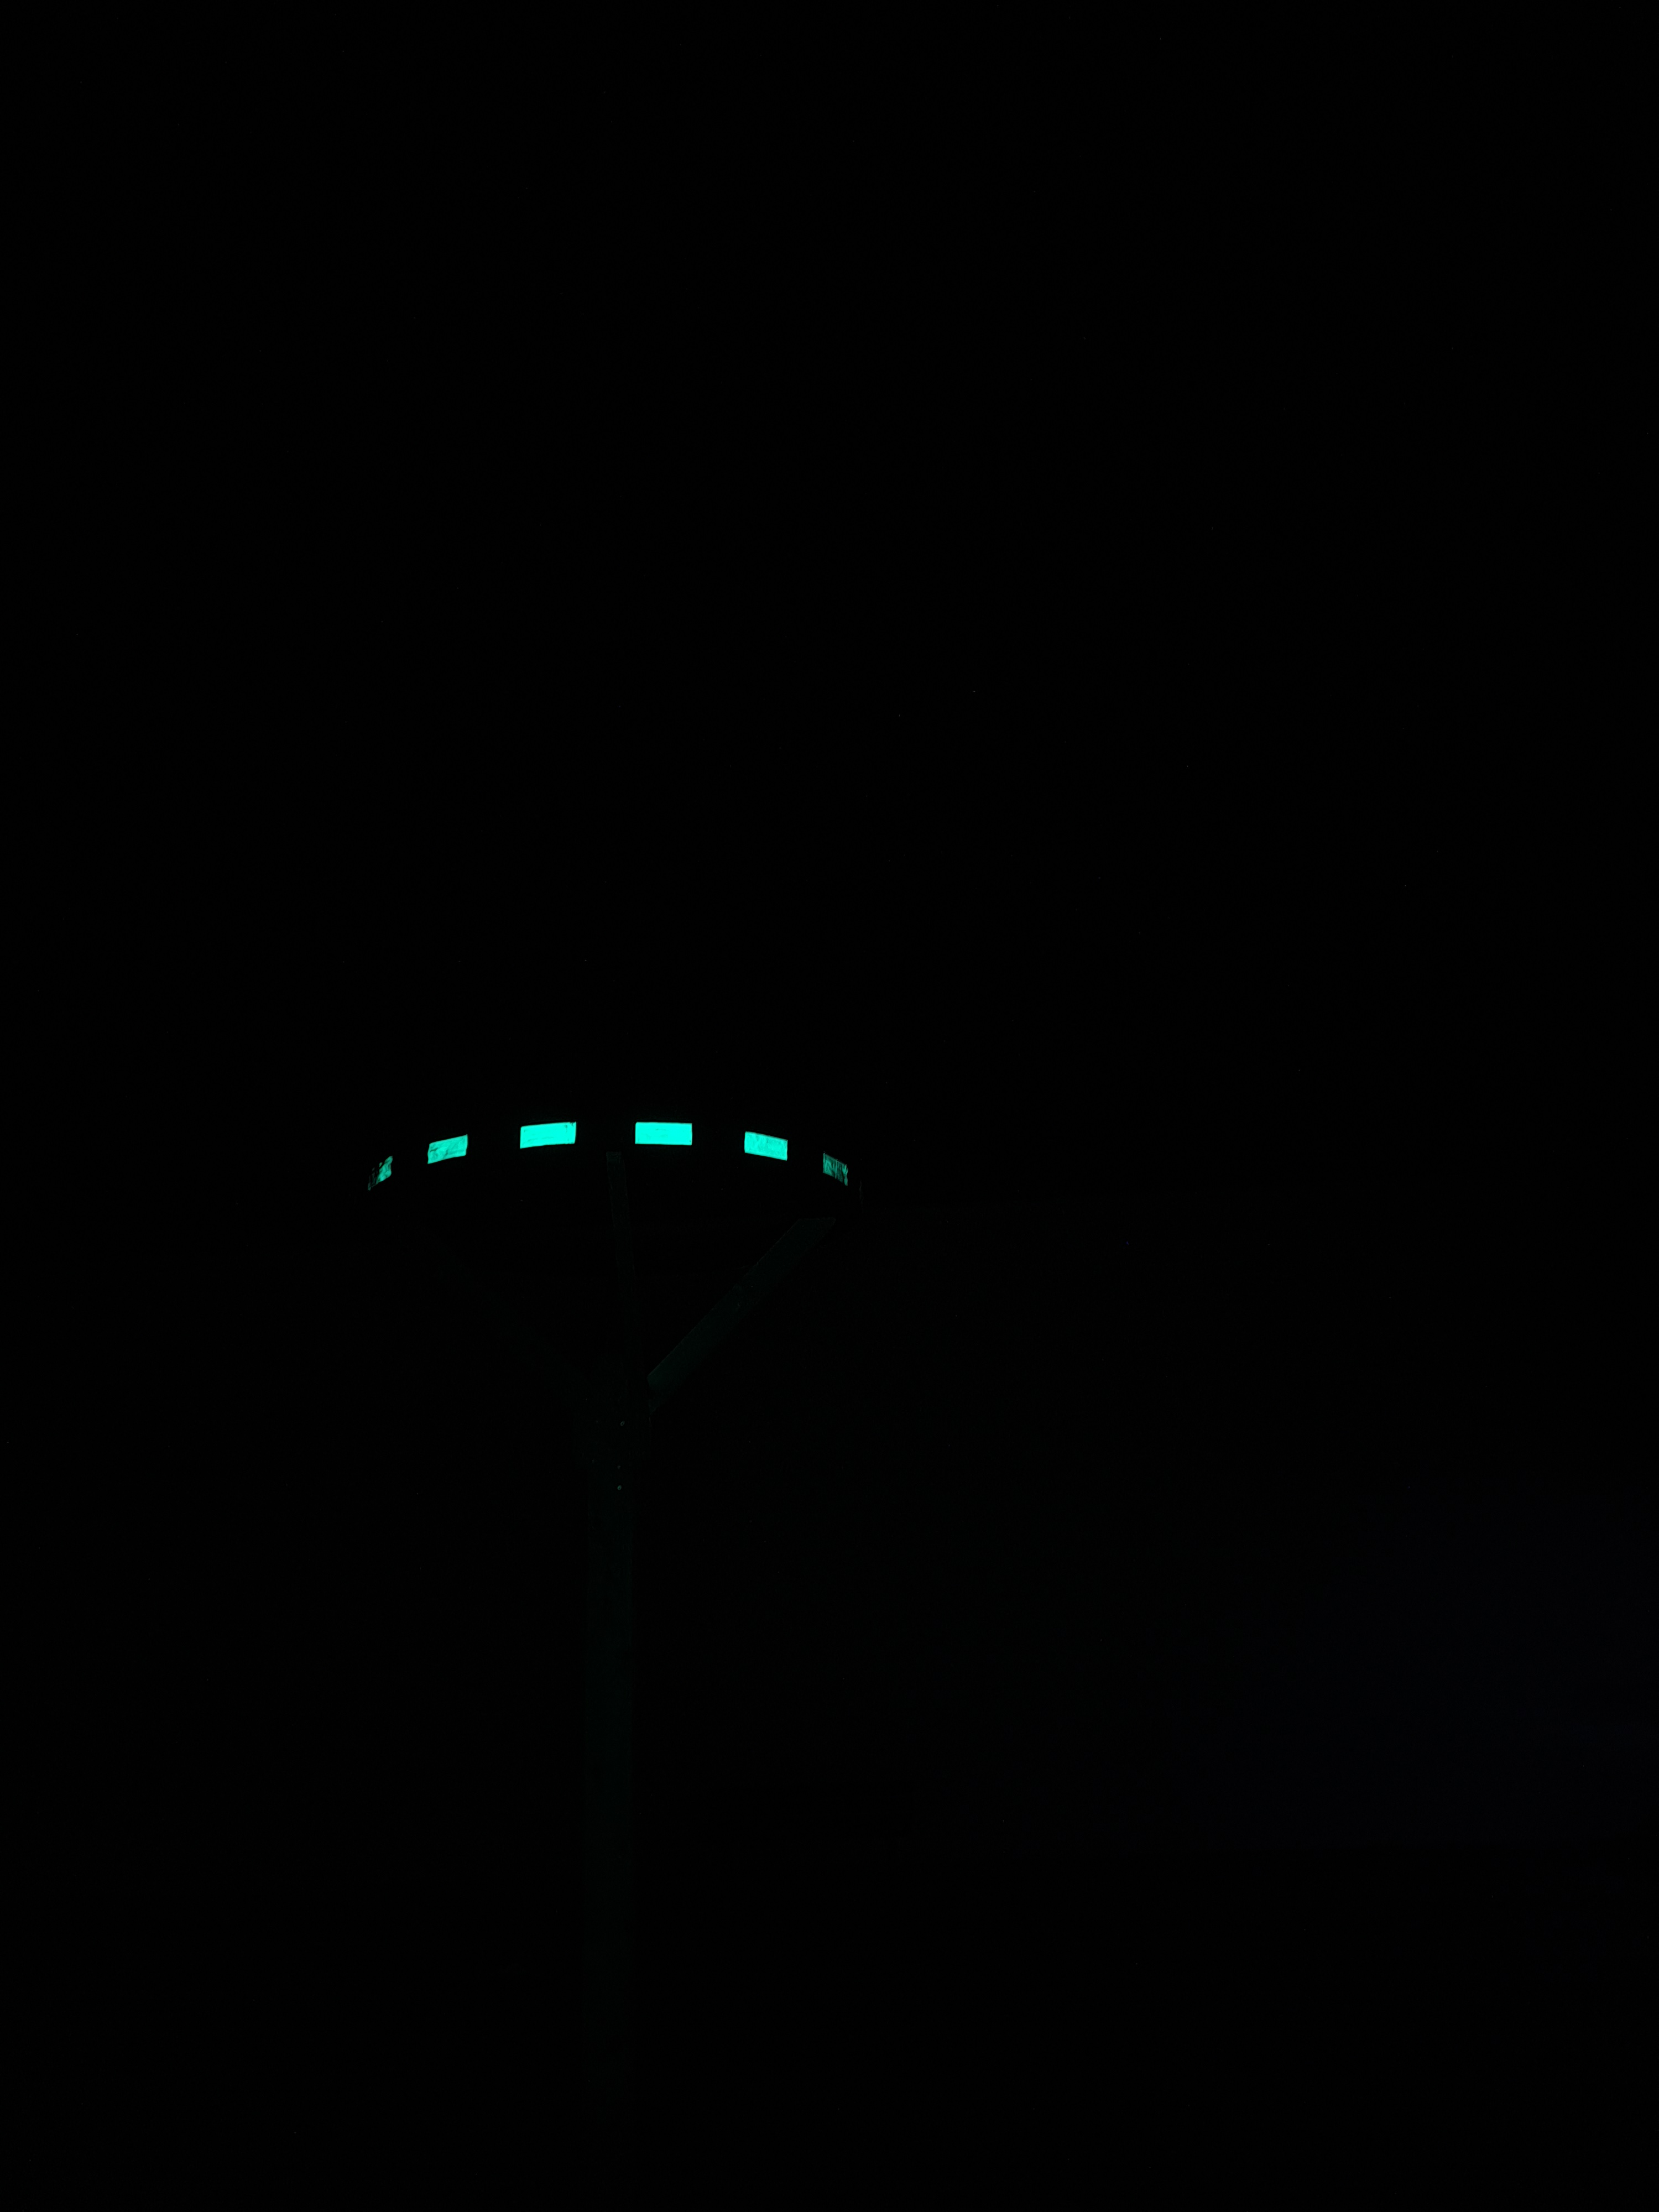hoop: (349, 1113, 854, 1207)
